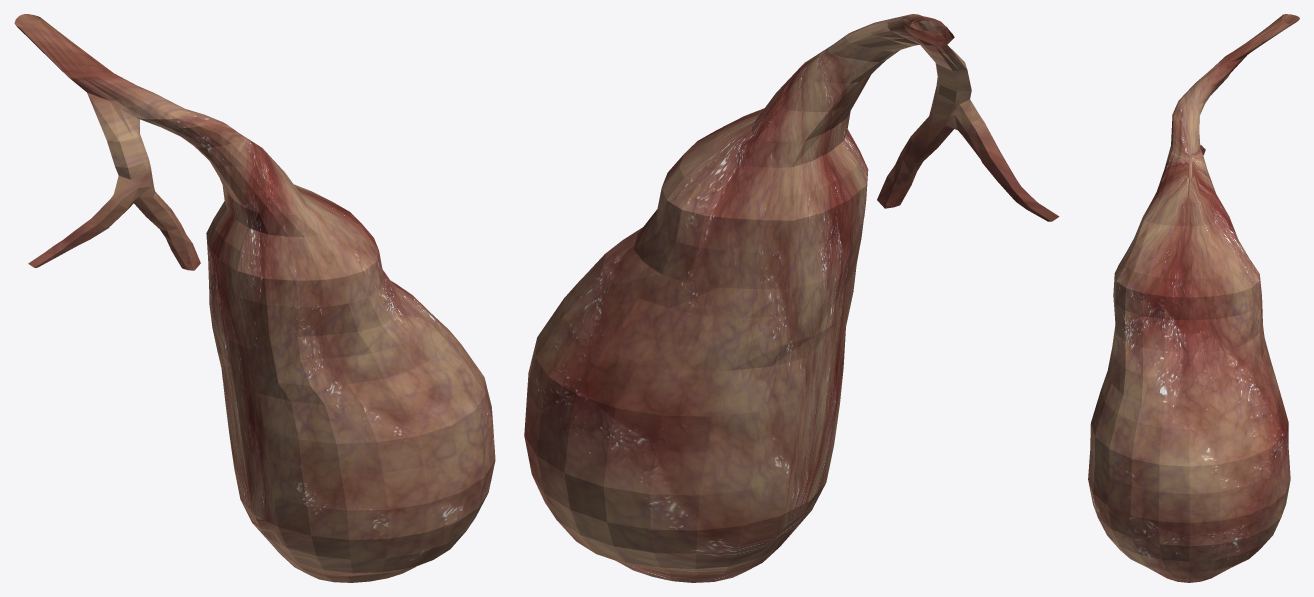
File: triangleobj.obj
The picture shows the model from 3 angles, left to right: view 1: azimuth 30°, elevation 25°; view 2: azimuth 150°, elevation 25°; view 3: azimuth 270°, elevation 25°; orthographic projection. The views are drawn at different scales.
Visible parts, largest first — view 1: polySurface2; view 2: polySurface2; view 3: polySurface2.
Part boxes in pixels (x1,y1,x2,y2): polySurface2: [14, 14, 495, 582]; polySurface2: [524, 14, 1059, 582]; polySurface2: [1088, 14, 1299, 582].
Size of the model in its own units: 1.44 by 1.79 by 0.7628.
1 material, 1 textured.
